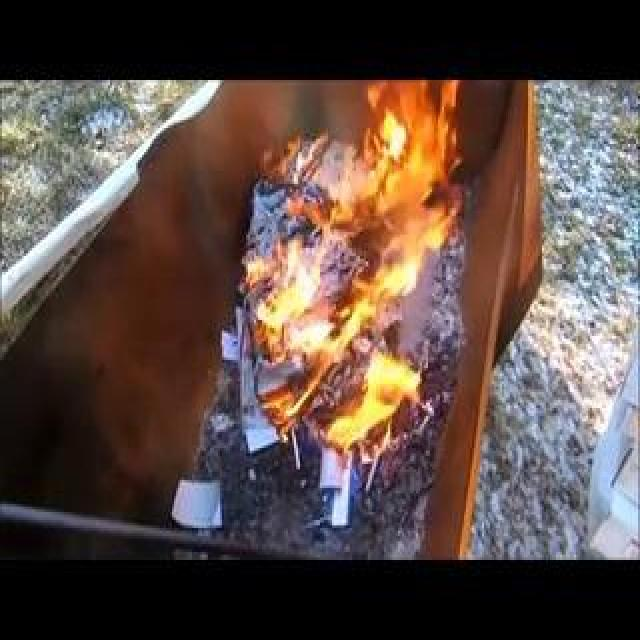Fire: (214, 268, 342, 376)
